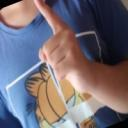hand: (33, 0, 91, 95)
